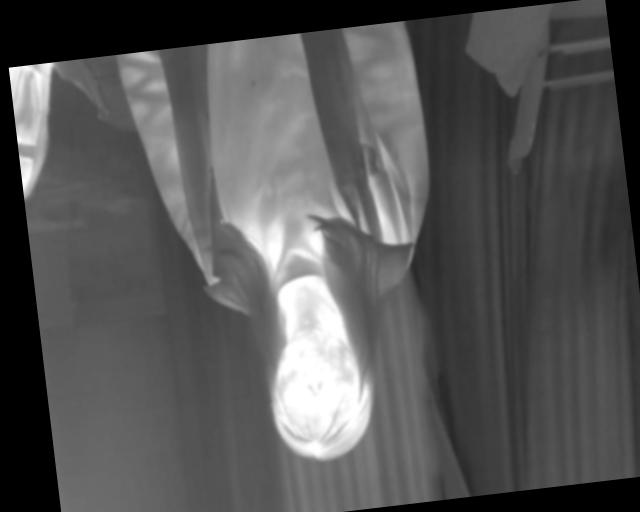face: (266, 320, 378, 466)
